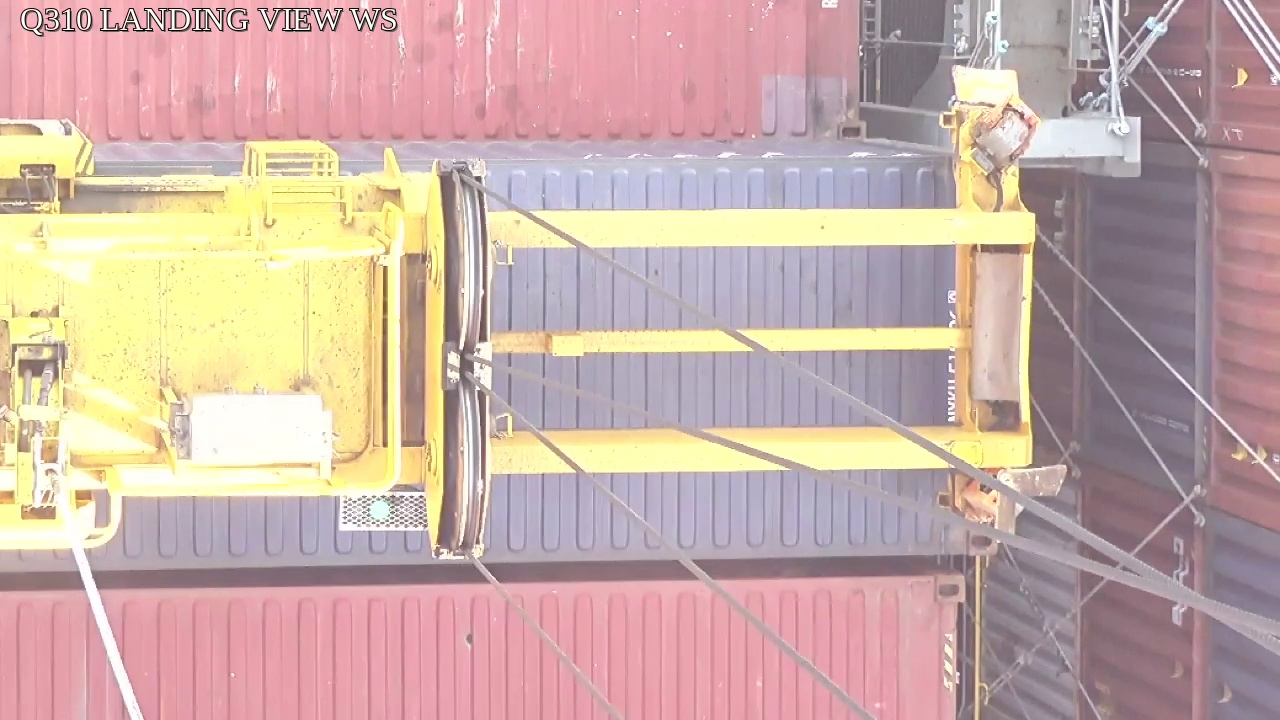right: (419, 161, 496, 561)
